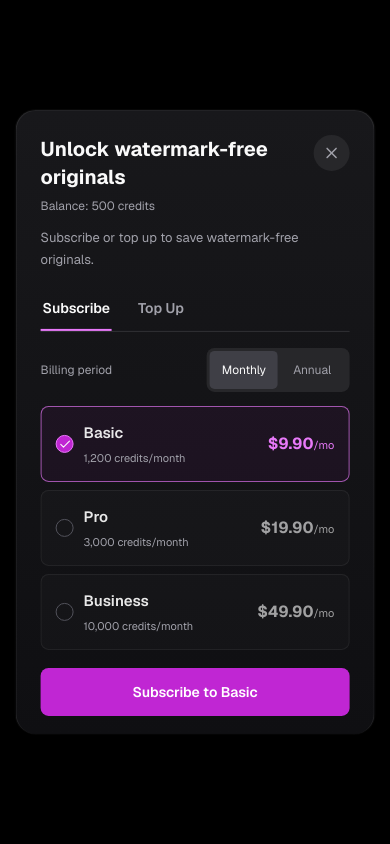
Test case: CreditPopup Apple purchase flow › shows the localized error when web checkout rejects or returns malformed JSON
Click the button "Subscribe to Basic".
click(195, 692)  # box [41,668,349,716]
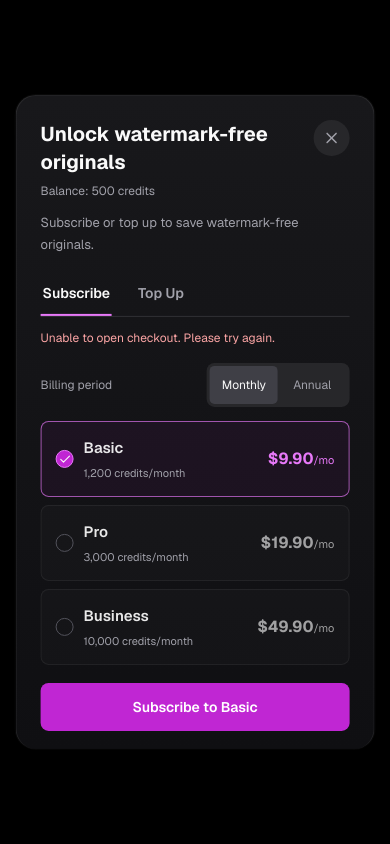
Expected: the button "Subscribe to Basic" is enabled, [41,683,349,731]
Expected: the text "Unable to open checkout. Please try again." is shown, [41,330,275,346]
